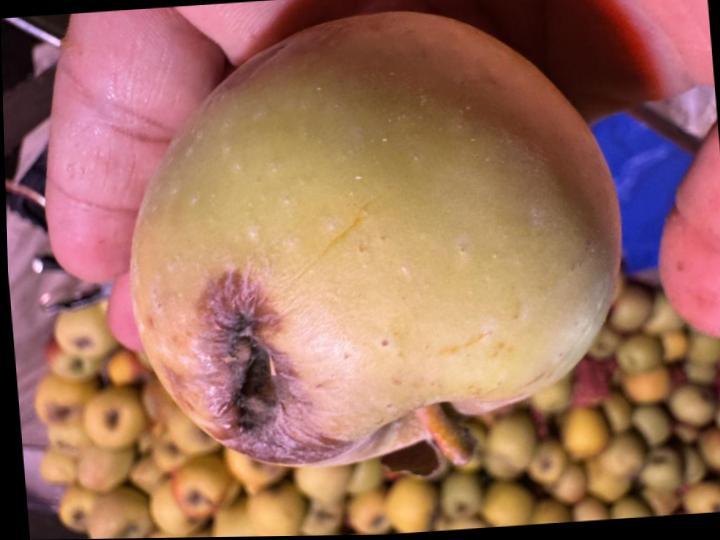apple: (130, 12, 621, 466)
rot_mold_decay: (196, 272, 353, 463)
